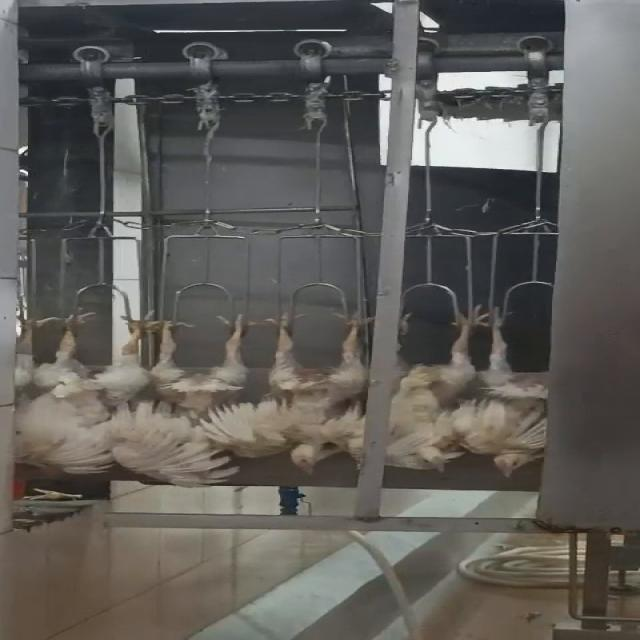chicken: (12, 317, 176, 473), (240, 304, 379, 476), (158, 310, 270, 491), (377, 304, 491, 471), (475, 303, 549, 477)
